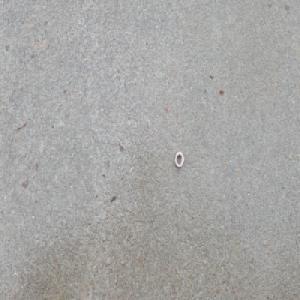Nut: (172, 150, 183, 168)
